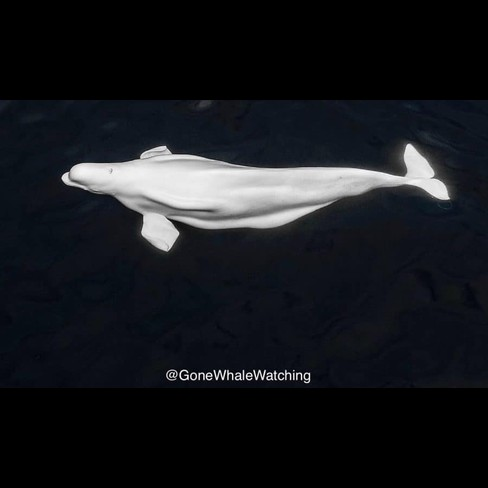beluga: (53, 130, 456, 260)
